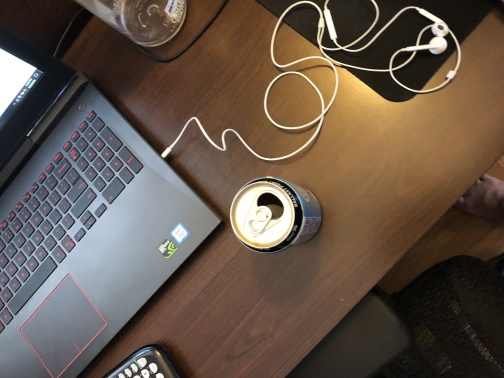can: (228, 175, 324, 255)
